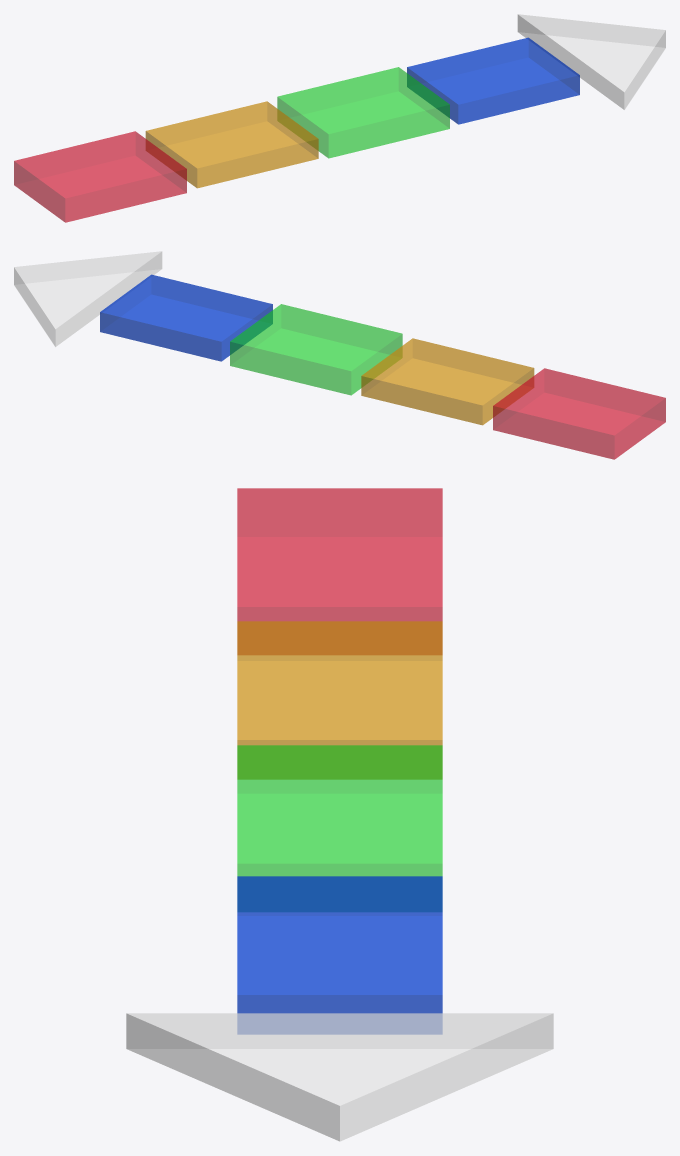
Rendered from timingopp.fbx.
3 views of the same model, one above another, from view 1: azimuth 30°, elevation 25°; view 2: azimuth 150°, elevation 25°; view 3: azimuth 270°, elevation 25° (orthographic). The views are drawn at different scales.
Visible parts, largest first — view 1: Cube, Cube.003, Cube.001, Cube.002, Cube.004; view 2: Cube, Cube.003, Cube.001, Cube.002, Cube.004; view 3: Cube.004, Cube, Cube.001, Cube.002, Cube.003.
Part boxes in pixels (<box>): Cube: <box>14,131,186,222</box>; Cube.003: <box>277,67,449,158</box>; Cube.001: <box>145,101,318,188</box>; Cube.002: <box>407,37,579,124</box>; Cube.004: <box>517,14,665,109</box>; Cube: <box>493,368,665,459</box>; Cube.003: <box>230,304,402,395</box>; Cube.001: <box>361,338,534,425</box>; Cube.002: <box>100,274,272,361</box>; Cube.004: <box>14,251,162,346</box>; Cube.004: <box>126,1013,553,1141</box>; Cube: <box>237,488,442,654</box>; Cube.001: <box>237,621,442,779</box>; Cube.002: <box>237,876,442,1033</box>; Cube.003: <box>237,745,442,876</box>.
Bounding box in the file's own units: 1407 × 52.1 × 416.
